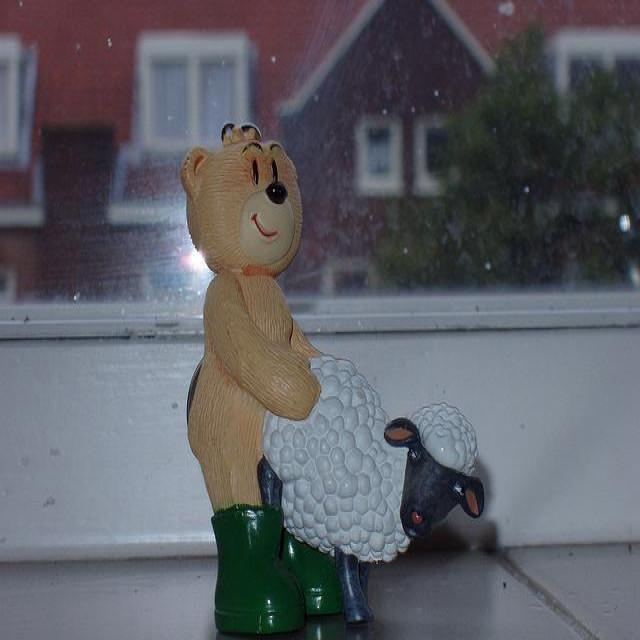Sheep: (267, 357, 485, 616)
